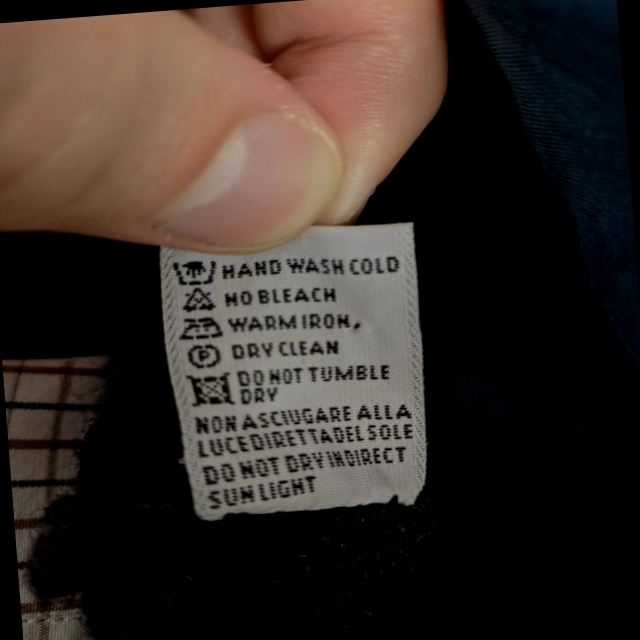DN_bleach: (180, 285, 216, 316)
DN_tumble_dry: (185, 368, 236, 412)
dry_clean_any_solvent_except_trichloroethylene: (188, 343, 223, 370)
hand_wash: (170, 258, 219, 287)
iron_medium: (179, 312, 226, 343)
